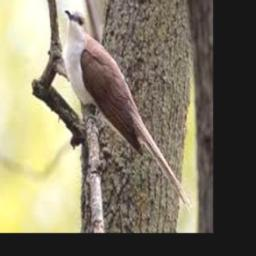Cuckoo: (64, 9, 193, 212)
